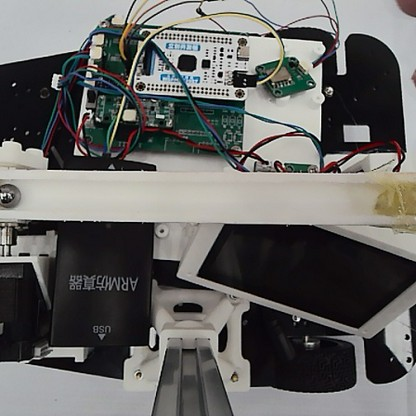ironball: (0, 181, 21, 210)
